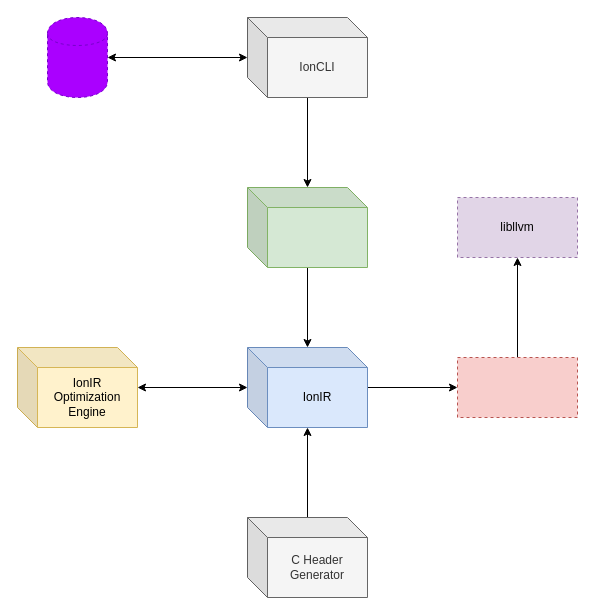
Image size: 595x615. Some labels were removed from this diagram. The centre of each missing label's shape, as x and y in pixels:
IonCore: (307,227)
LLVM Tools: (77,57)
LLVMSharp: (517,387)
